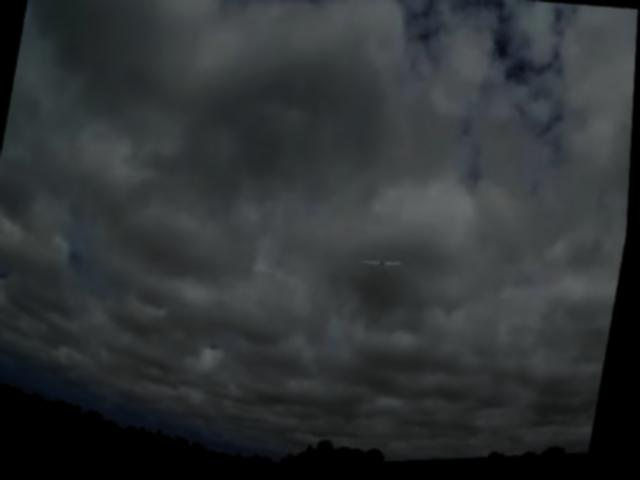uav: (358, 251, 410, 282)
